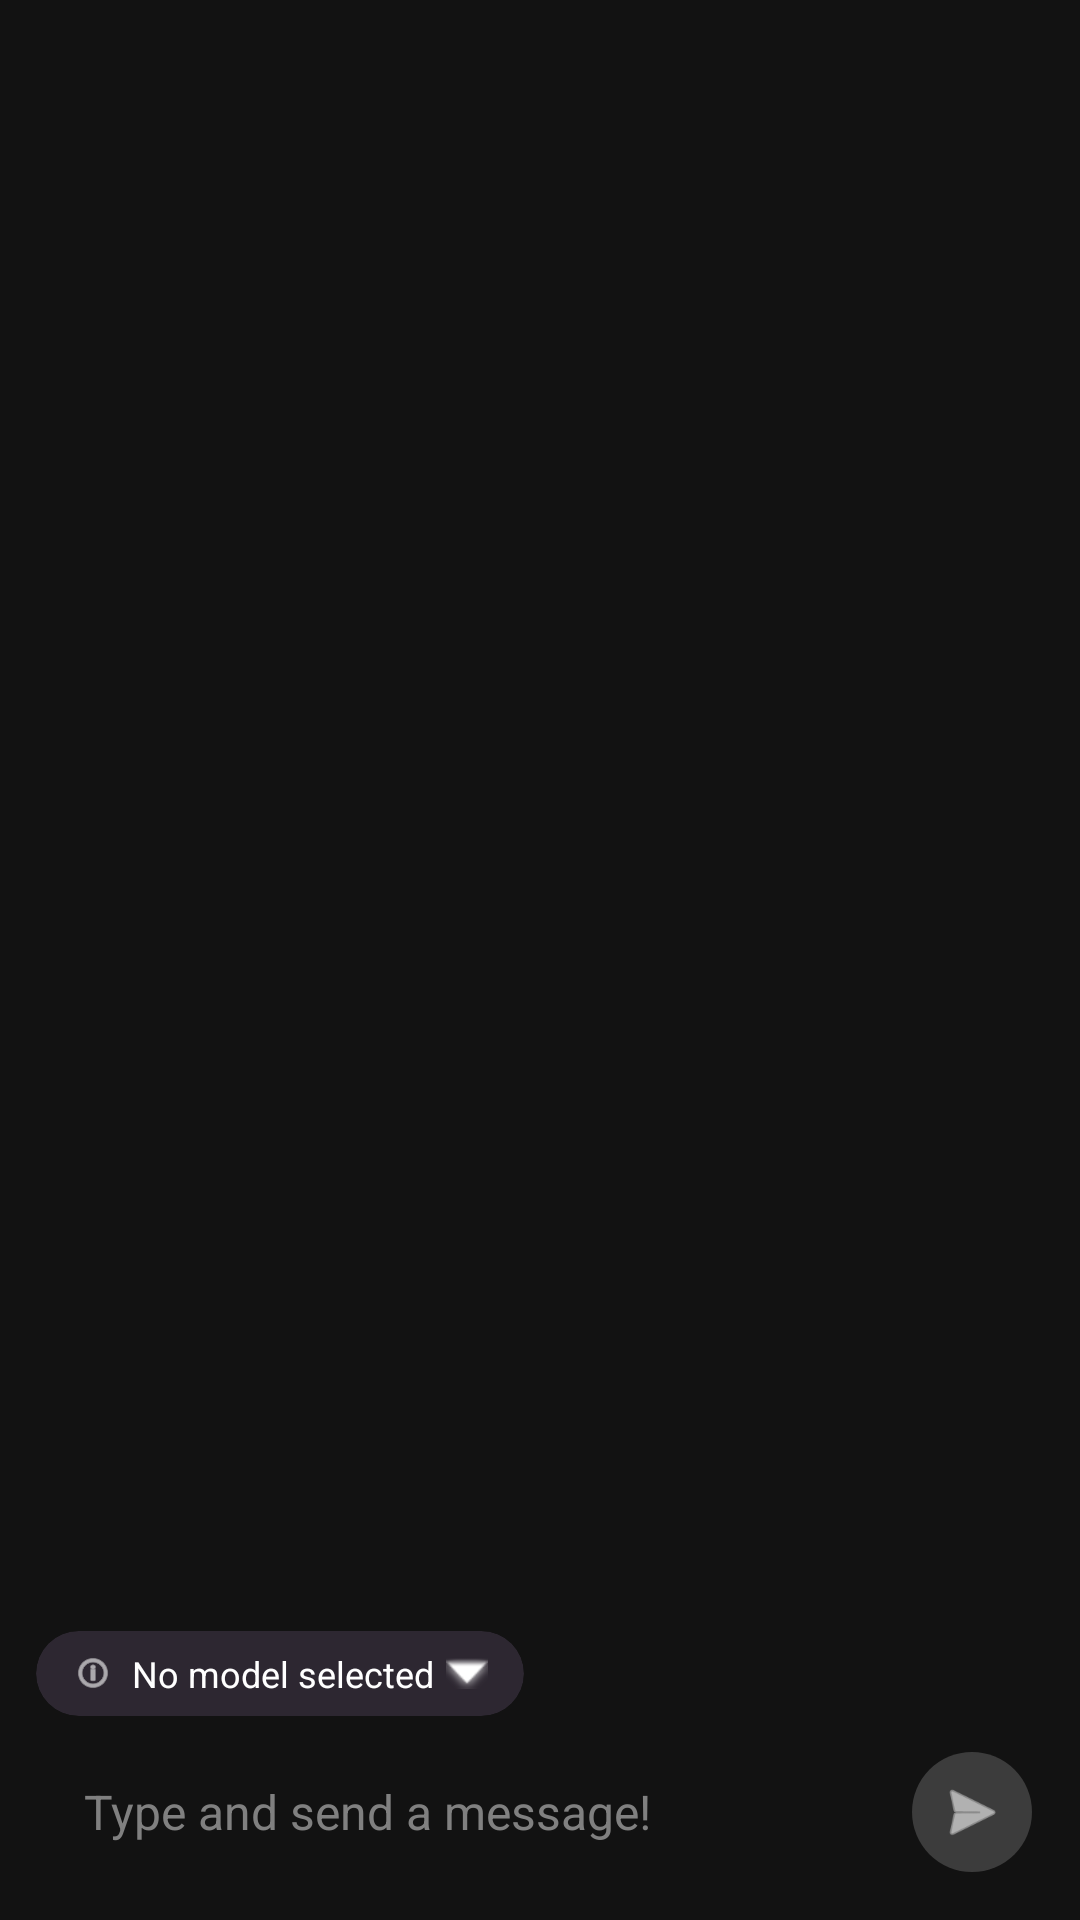

Where to tap for icons on this 1080 x 1920 app screen, as [x,y]:
arrow down float: [467,1673]
info details: [93,1673]
